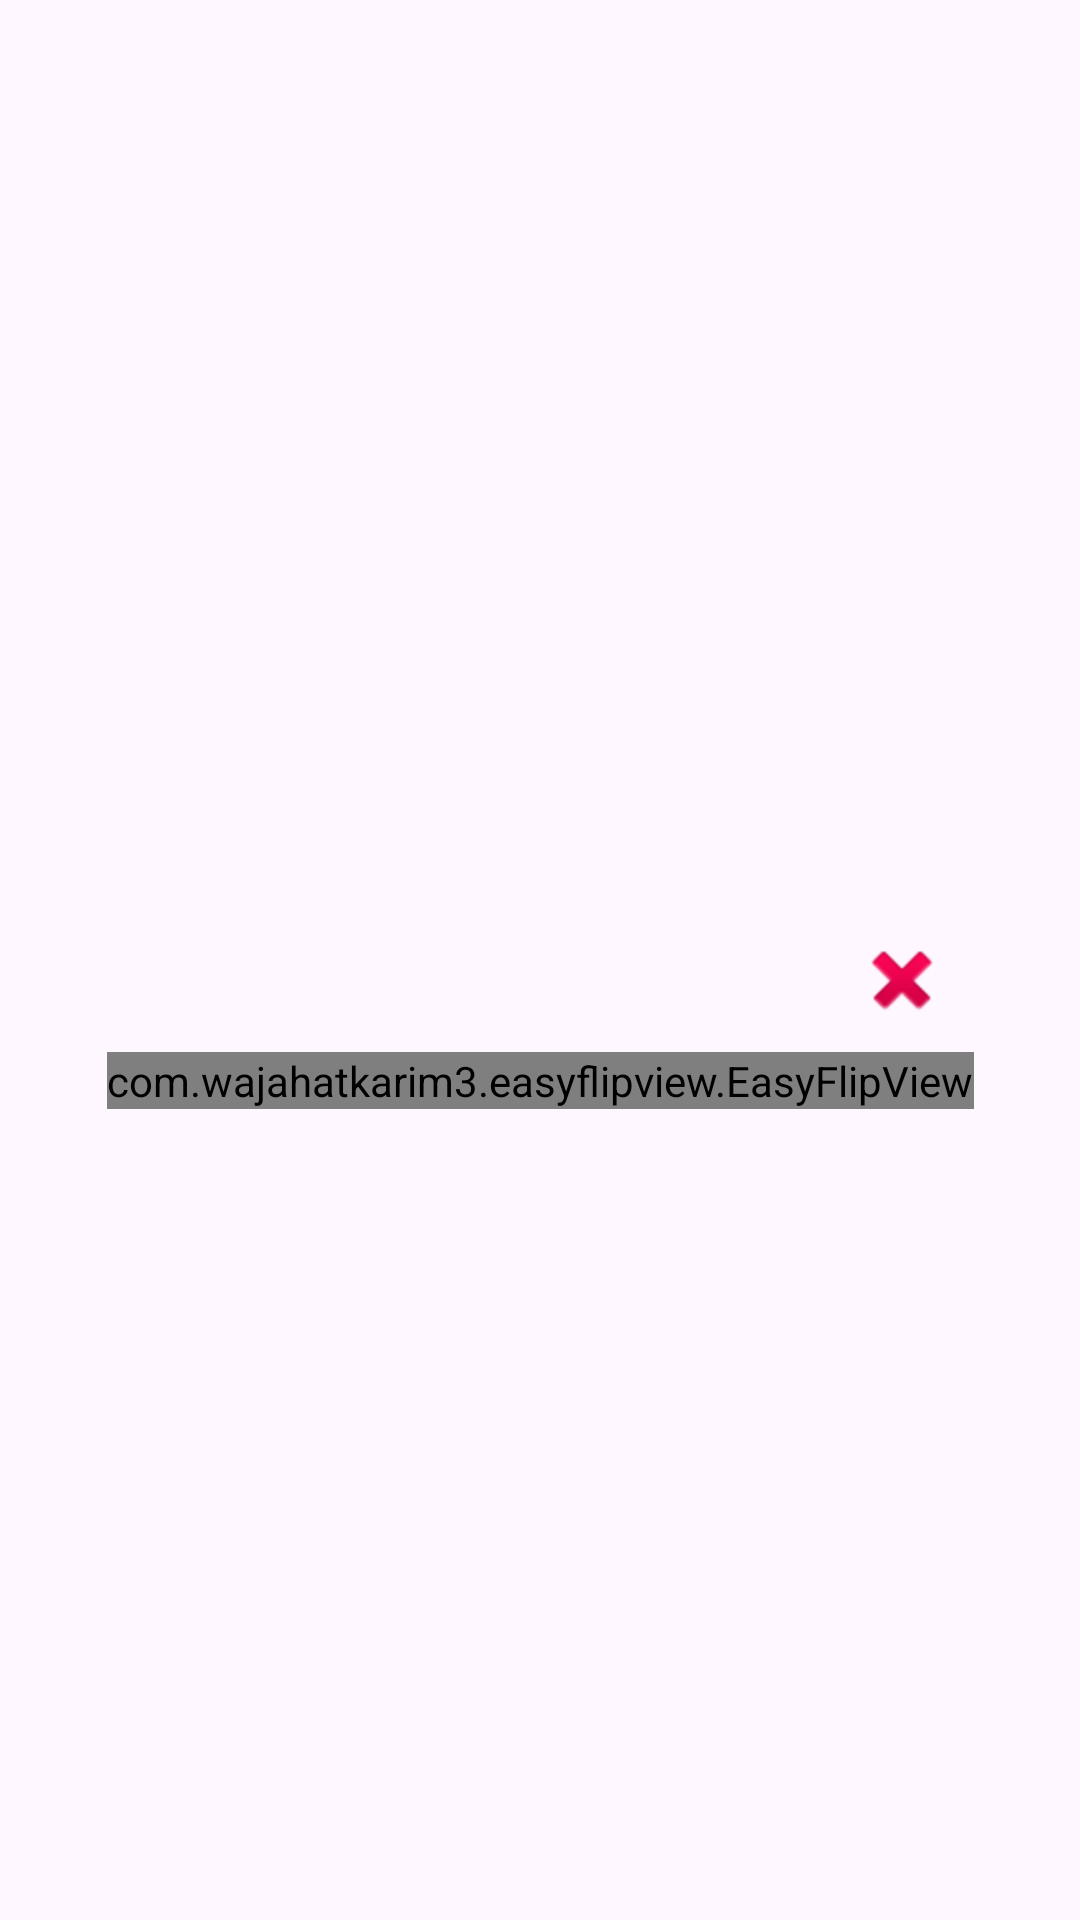

Named icons in this screenshot (1080*1920) and their centers, point (x, y):
delete: point (902, 980)
